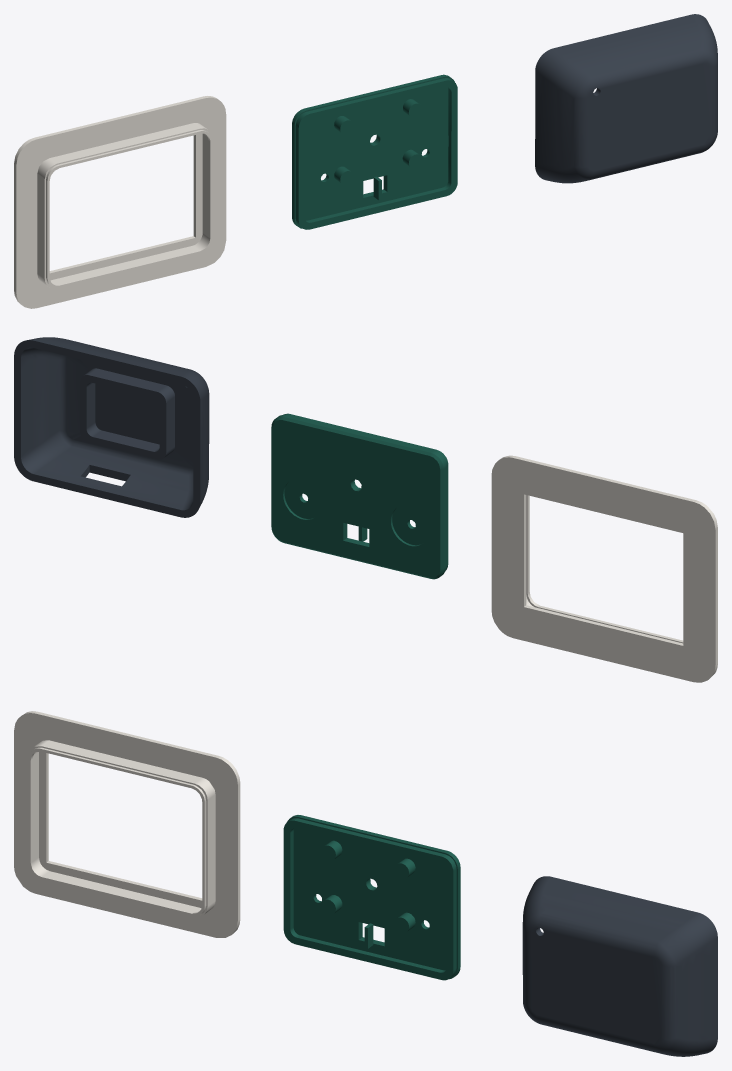
File: MindMap-Patch-simplified.glb
The picture shows the model from 3 angles, top to bottom: view 1: azimuth 30°, elevation 25°; view 2: azimuth 150°, elevation 25°; view 3: azimuth 330°, elevation 25°; orthographic projection. The views are drawn at different scales.
Visible parts, largest first — view 1: ElectronicsPod, AdhesiveBase, SensorBoard; view 2: ElectronicsPod, AdhesiveBase, SensorBoard; view 3: ElectronicsPod, AdhesiveBase, SensorBoard.
Boxes of the visible parts, left/top/right/bottom form: ElectronicsPod: left=535, top=14, right=717, bottom=183; AdhesiveBase: left=14, top=96, right=226, bottom=308; SensorBoard: left=292, top=74, right=457, bottom=229; ElectronicsPod: left=14, top=337, right=209, bottom=517; AdhesiveBase: left=491, top=455, right=717, bottom=682; SensorBoard: left=271, top=413, right=448, bottom=579; ElectronicsPod: left=522, top=876, right=717, bottom=1056; AdhesiveBase: left=14, top=711, right=240, bottom=937; SensorBoard: left=283, top=815, right=460, bottom=980.
Bounding box in the file's own units: 168 × 40 × 19.85.
